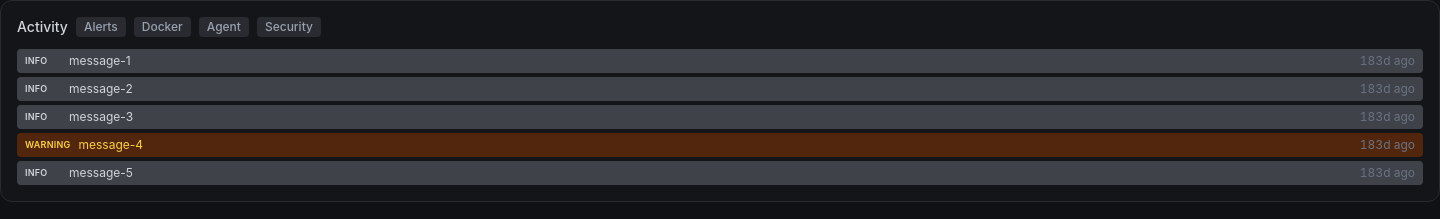
it: [AC-026] ActivityRiver — chip filter multiselect with eventCategory mapping (FR-054) › filters to docker events when docker chip is active
The width and height of the screenshot is (1440, 219).
Click the button with test id "river-chip-docker".
click(162, 27)  # box top-left (134, 17), bottom-right (191, 37)
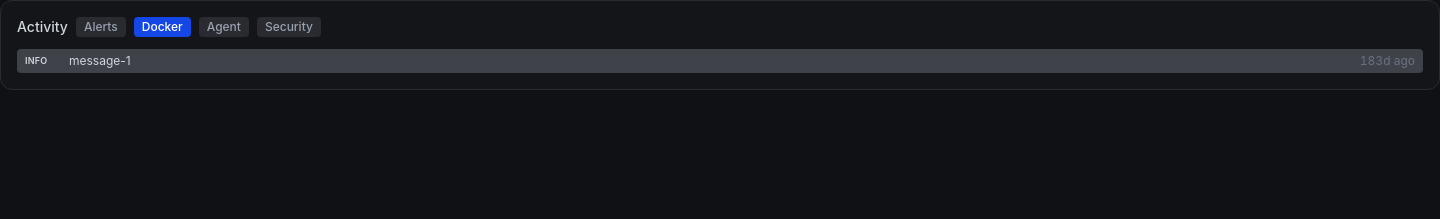
expect the list item with test id "river-event-1" is shown: met, box top-left (17, 49), bottom-right (1423, 73)
expect the list item with test id "river-event-2" is gone: met
expect the list item with test id "river-event-5" is gone: met
